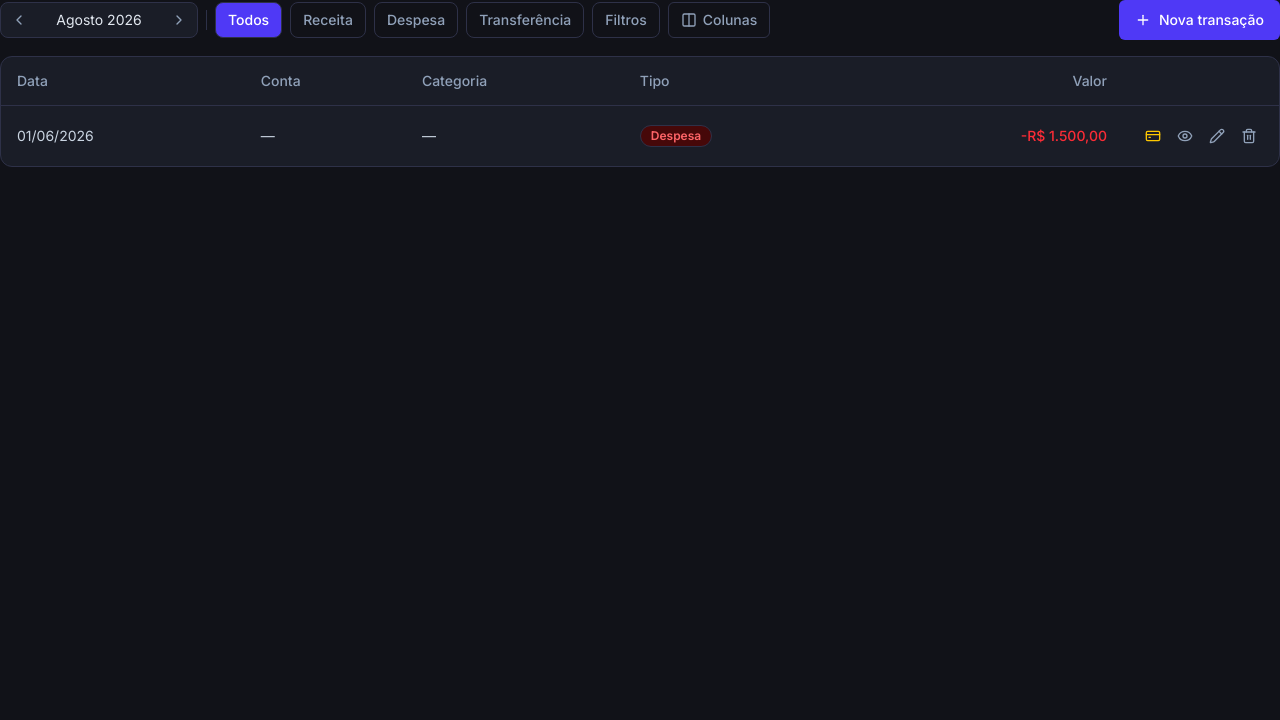
Test: Transactions › cancela dialog de pagamento ao clicar em Cancelar
Click the button titled "Efetivar": (1153, 136) [1139,122,1167,150]
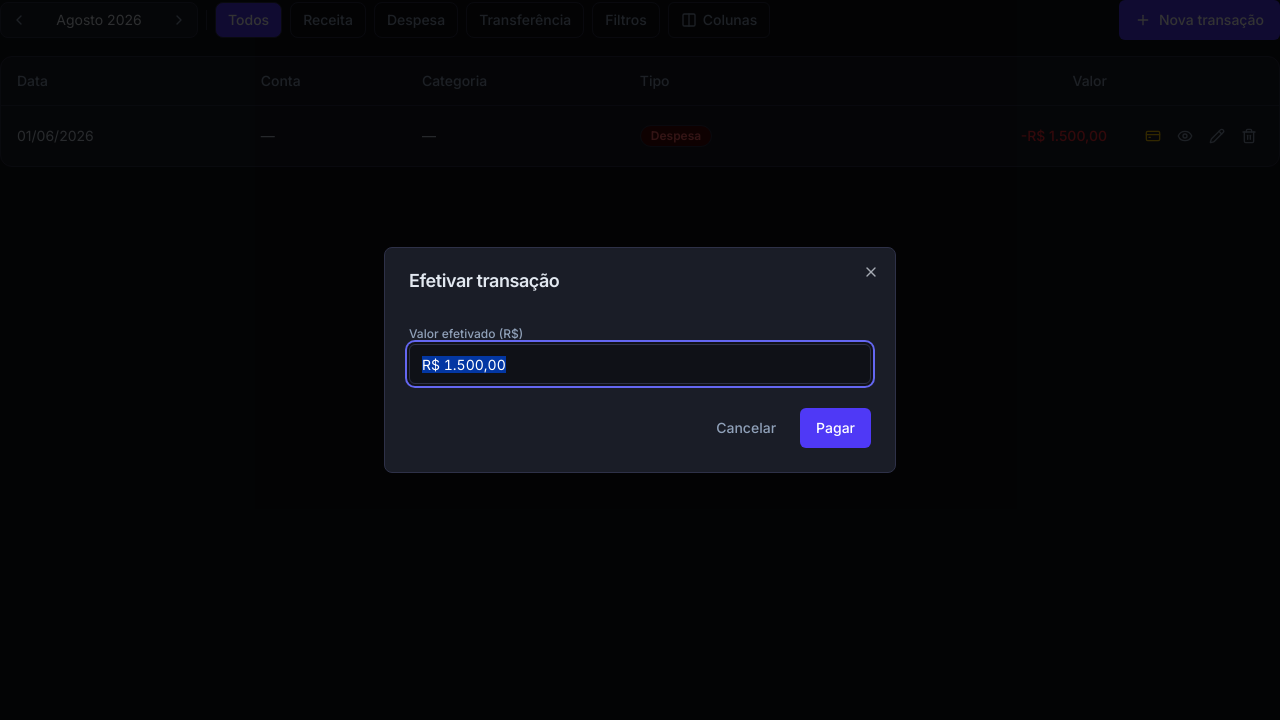
Result: the heading "Efetivar transação" is shown at [409,270,559,291]
Click the button "Cancelar": (746, 428) [700,408,792,448]
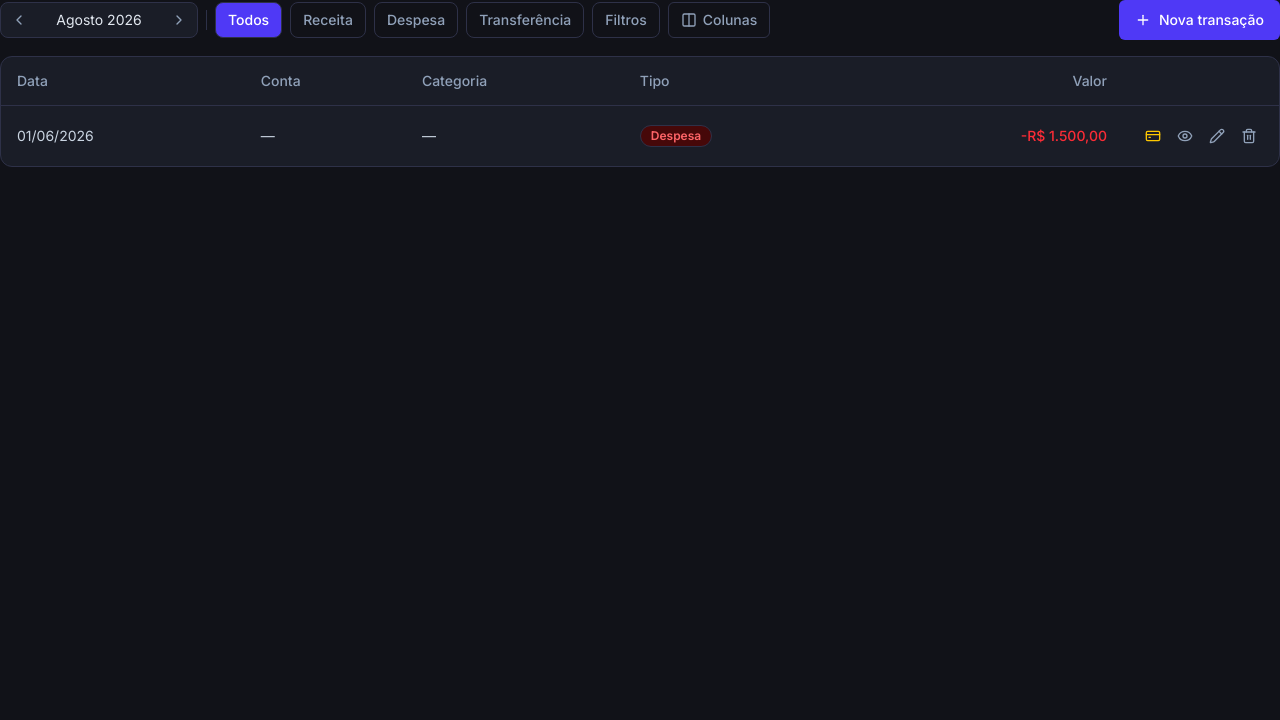
Result: the heading "Efetivar transação" is gone
